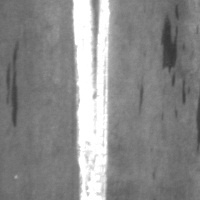inclusion: (160, 10, 181, 88), (4, 43, 21, 129), (133, 79, 148, 117)
scratches: (71, 0, 113, 199)
